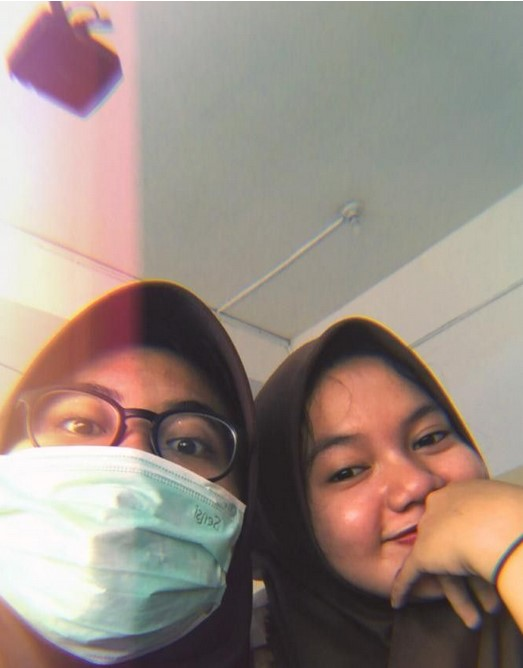face_with_mask: (3, 281, 260, 666)
